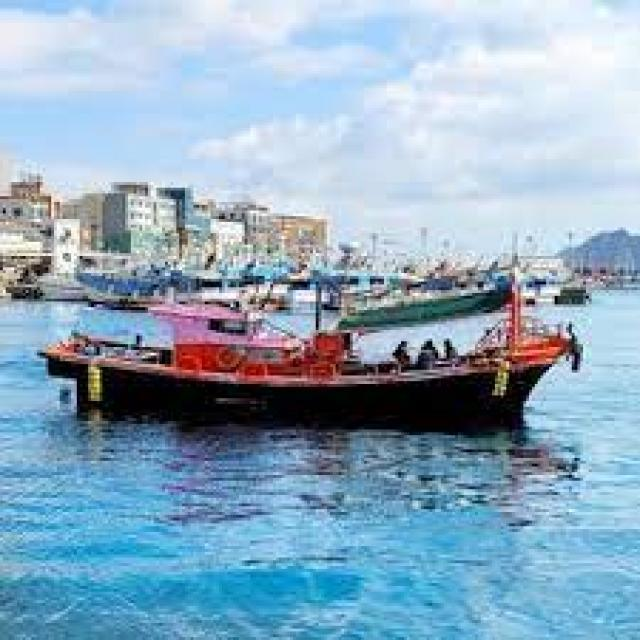Ship: (27, 260, 596, 454)
